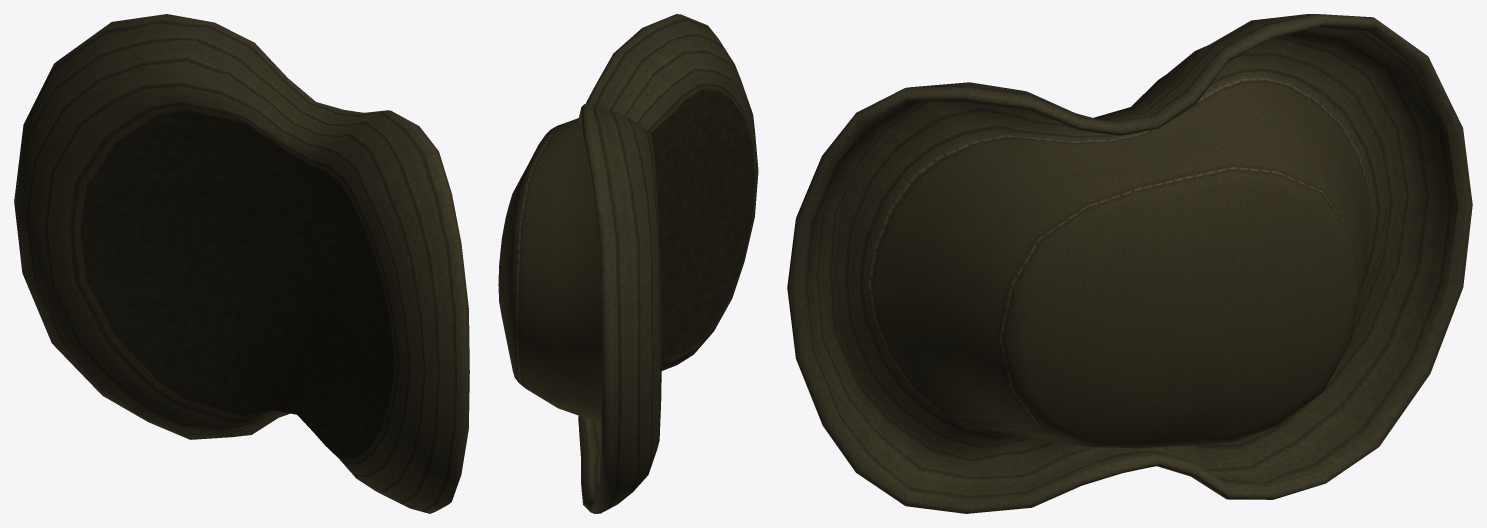
The model's file is pm0025_00_pikachu_safarizone2020.fbx.
The picture shows the model from 3 angles, left to right: view 1: azimuth 30°, elevation 25°; view 2: azimuth 150°, elevation 25°; view 3: azimuth 270°, elevation 25°; orthographic projection. The views are drawn at different scales.
Visible parts, largest first — view 1: SafariZone2020Skin; view 2: SafariZone2020Skin; view 3: SafariZone2020Skin.
Boxes of the visible parts, left/top/right/bottom form: SafariZone2020Skin: left=14, top=14, right=469, bottom=513; SafariZone2020Skin: left=498, top=14, right=758, bottom=513; SafariZone2020Skin: left=787, top=14, right=1472, bottom=513.
Size of the model in its own units: 0.1196 by 0.1754 by 0.23.
